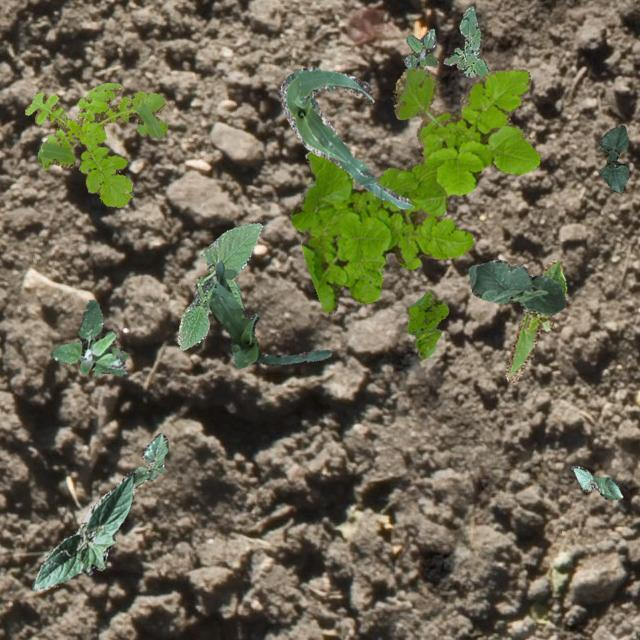crop: (278, 66, 411, 208), (208, 260, 330, 368), (30, 472, 134, 590), (176, 222, 262, 348), (504, 258, 566, 382), (468, 258, 564, 314), (598, 124, 630, 192), (132, 432, 166, 486), (570, 464, 622, 498)
weed: (288, 65, 538, 314), (23, 82, 166, 206), (51, 298, 128, 376), (442, 4, 488, 78), (406, 288, 448, 358), (403, 28, 438, 68)
